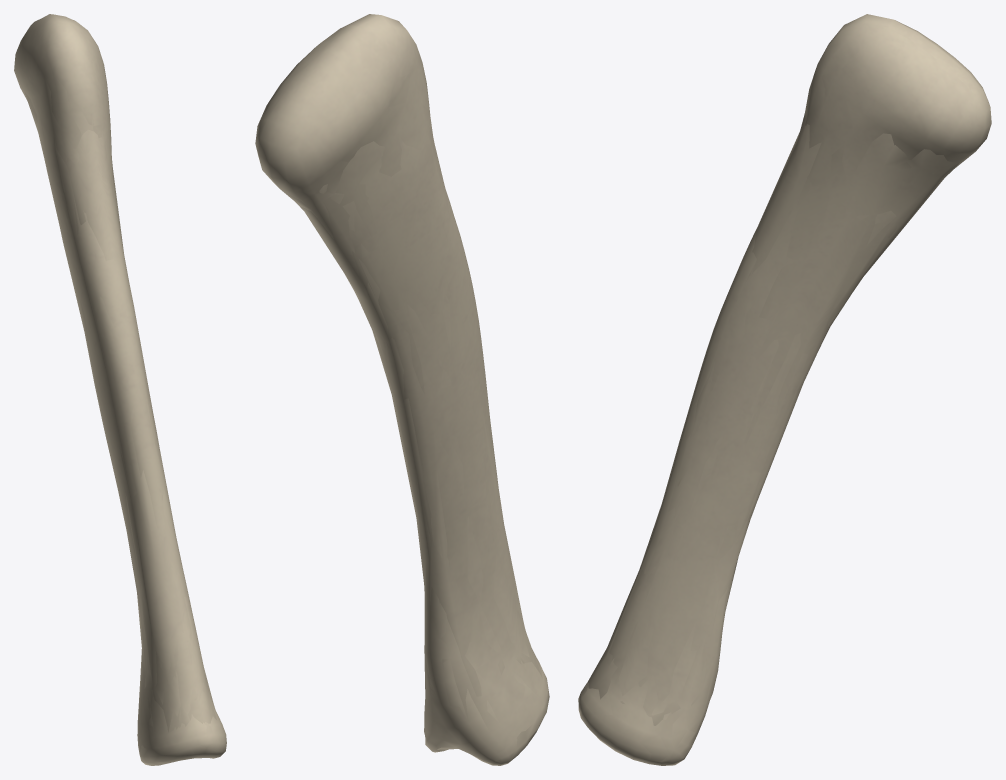
The model's file is L metacarpi secundum.fbx.
The picture shows the model from 3 angles, left to right: view 1: azimuth 30°, elevation 25°; view 2: azimuth 150°, elevation 25°; view 3: azimuth 270°, elevation 25°; orthographic projection. The views are drawn at different scales.
Visible parts, largest first — view 1: L metacarpi secundum, L metacarpi secundum high, L metacarpi secundum low; view 2: L metacarpi secundum, L metacarpi secundum high, L metacarpi secundum low; view 3: L metacarpi secundum, L metacarpi secundum low, L metacarpi secundum high.
Boxes of the visible parts, x1,y1,x2,y2 form: L metacarpi secundum: (14,14,226,765); L metacarpi secundum high: (14,15,226,764); L metacarpi secundum low: (25,92,216,732); L metacarpi secundum: (255,14,549,765); L metacarpi secundum high: (256,15,547,765); L metacarpi secundum low: (296,110,542,750); L metacarpi secundum: (578,14,991,765); L metacarpi secundum low: (588,113,959,725); L metacarpi secundum high: (579,14,989,765).
Size of the model in its own units: 1.37 by 10.6 by 5.45.
Materials: 1 (1 with a texture image).
